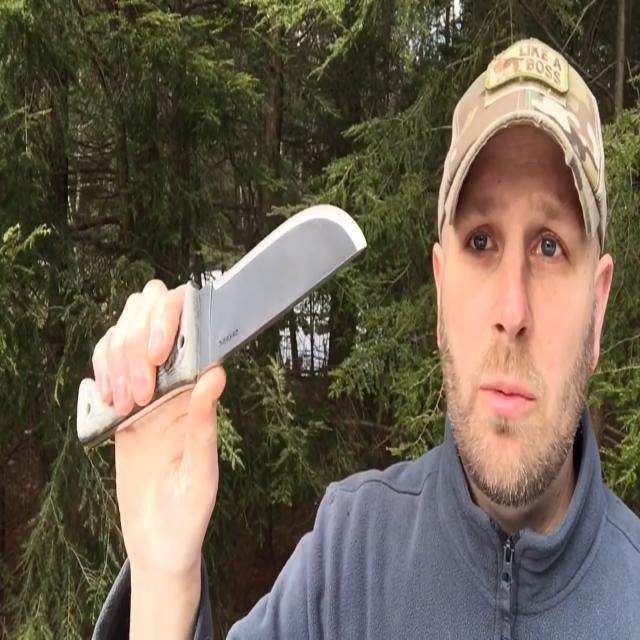knife: (75, 201, 371, 459)
